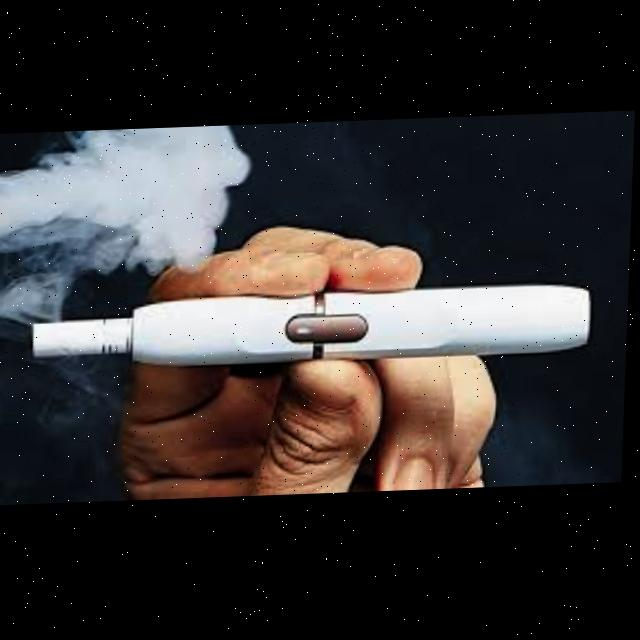vape: (34, 289, 593, 372)
